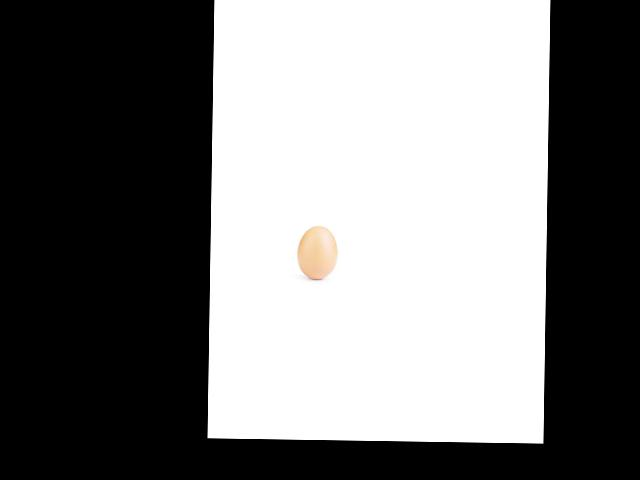egg: (296, 226, 337, 279)
